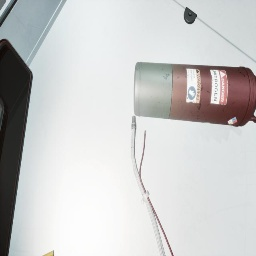NitrogenTank ,: (134, 62, 256, 127)
